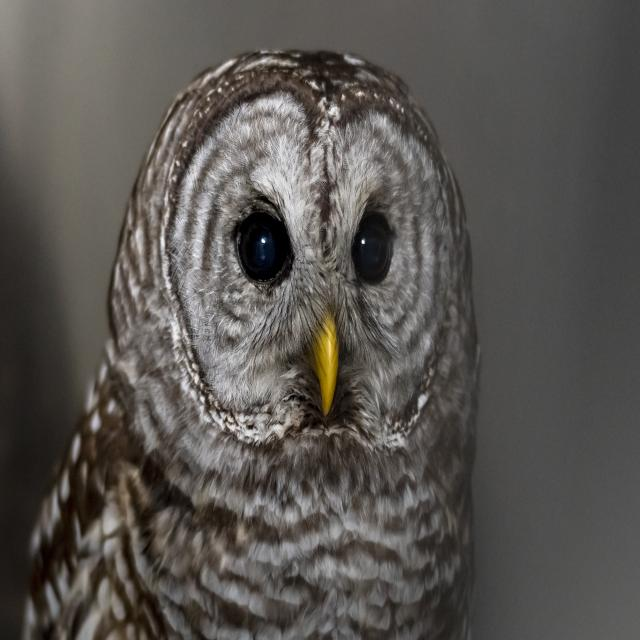Owl: (24, 40, 480, 640)
